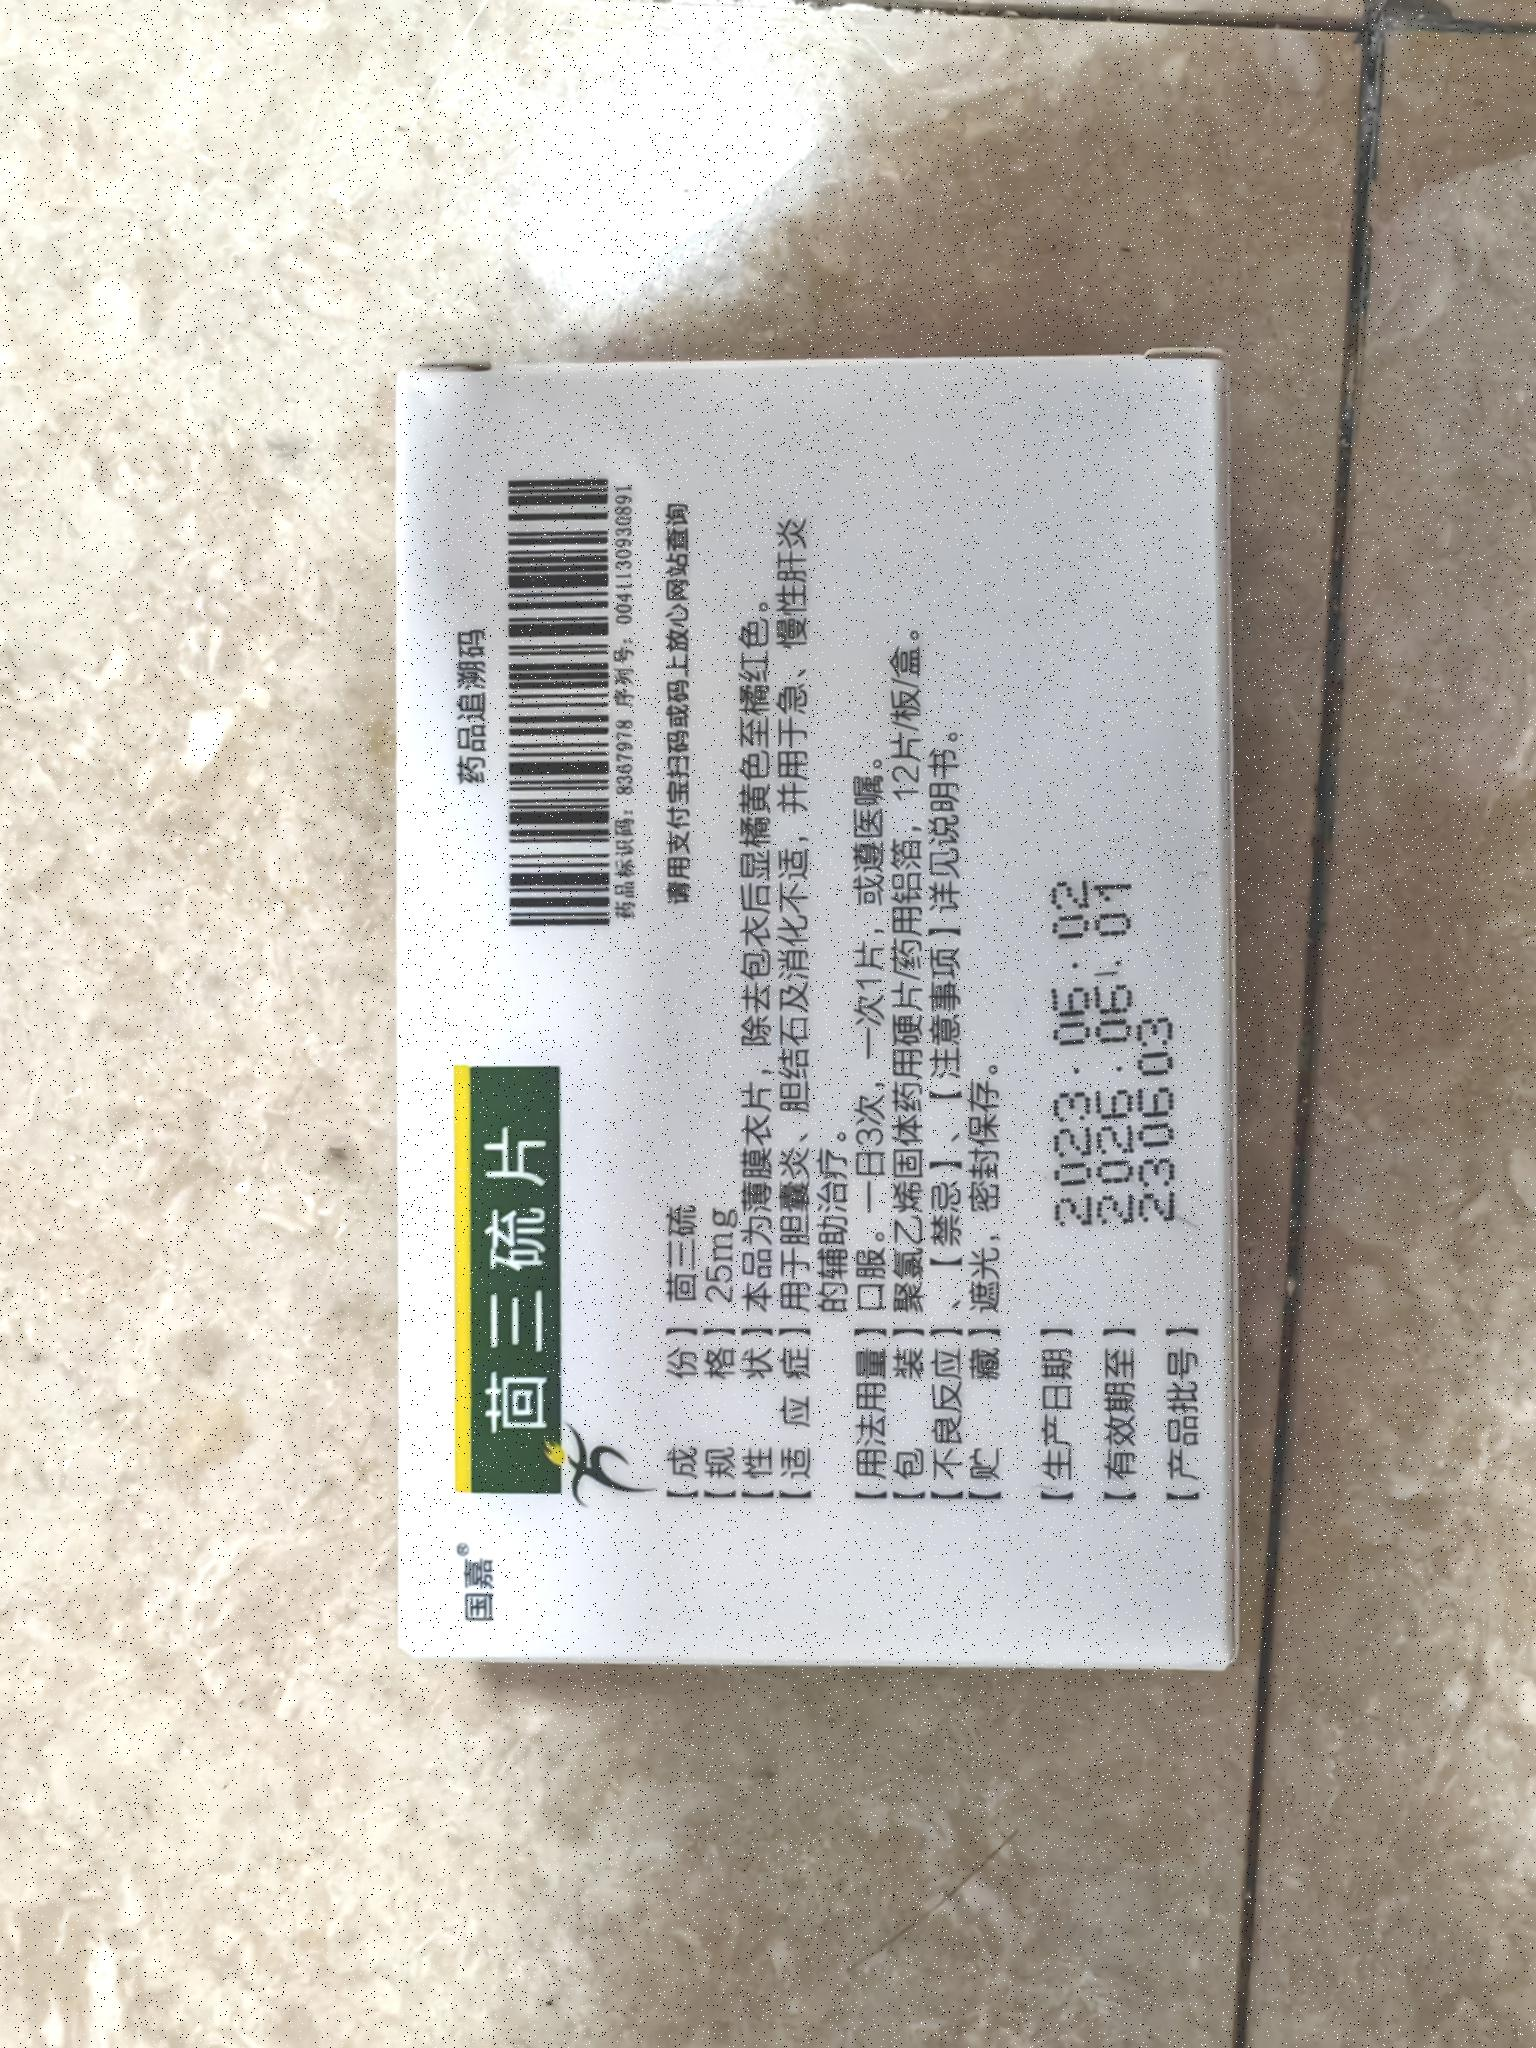Medicine4: (342, 329, 1283, 1714)
